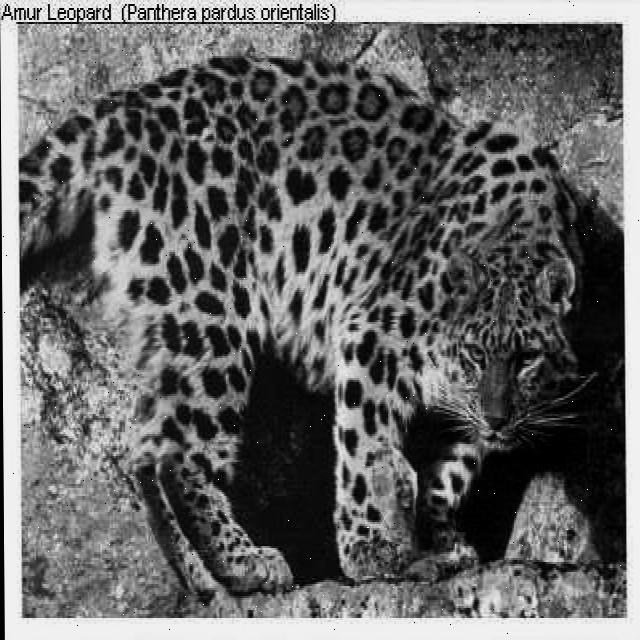Leopard: (16, 52, 599, 602)
